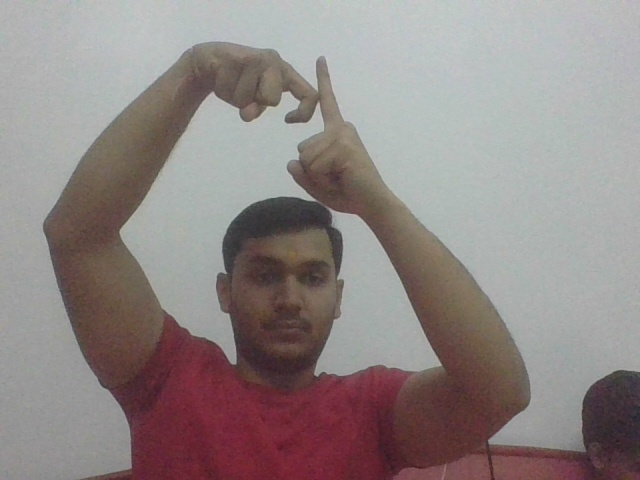K: (265, 42, 355, 148)
